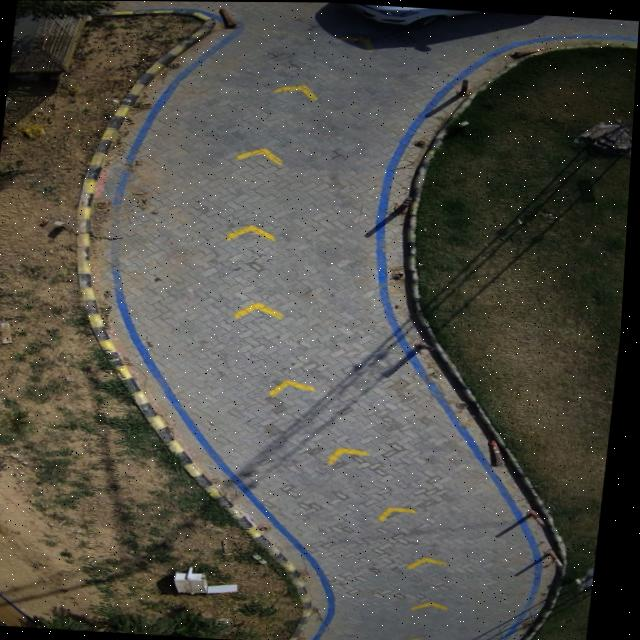car: (347, 3, 478, 24)
